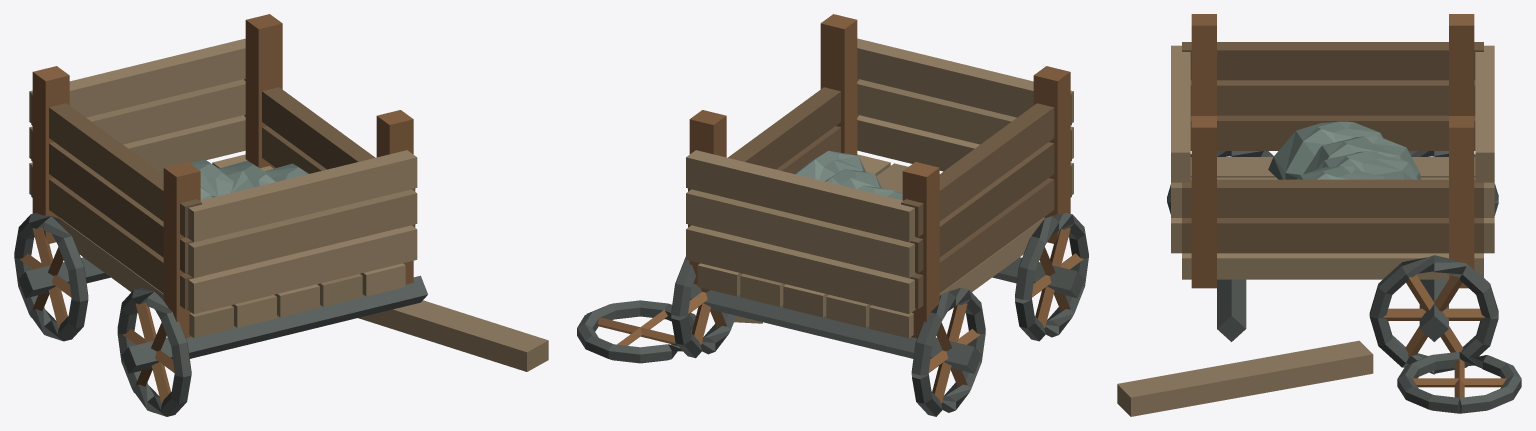
The model's file is broken-ore-cart.glb.
3 views of the same model, side by side, from view 1: azimuth 30°, elevation 25°; view 2: azimuth 150°, elevation 25°; view 3: azimuth 270°, elevation 25° (orthographic).
Visible parts, largest first — view 1: broken-ore-cart; view 2: broken-ore-cart; view 3: broken-ore-cart.
Boxes of the visible parts, left/top/right/bottom form: broken-ore-cart: left=14, top=14, right=548, bottom=416; broken-ore-cart: left=577, top=14, right=1088, bottom=416; broken-ore-cart: left=1117, top=14, right=1521, bottom=416.
Bounding box in the file's own units: 2.19 × 1.39 × 2.08.
